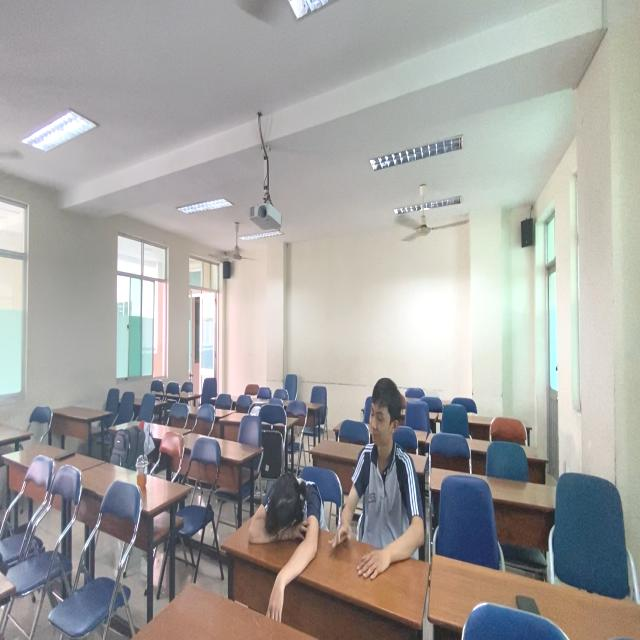sleep: (246, 467, 330, 561)
